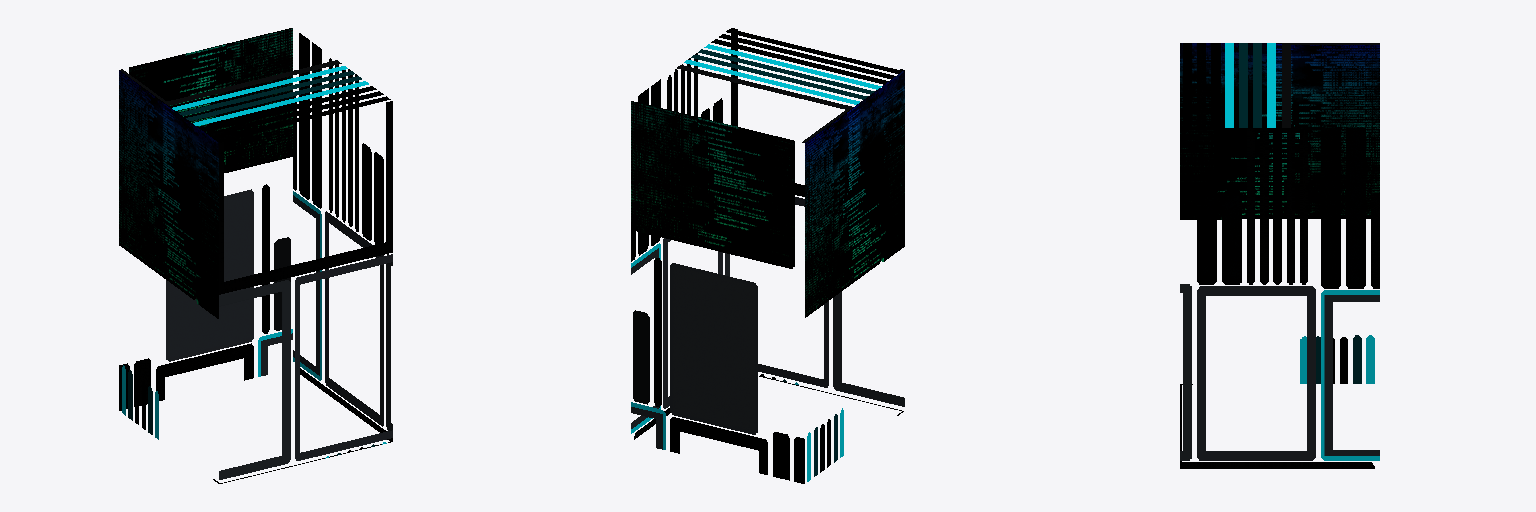
3 renders of one model, left to right at view 1: azimuth 30°, elevation 25°; view 2: azimuth 150°, elevation 25°; view 3: azimuth 270°, elevation 25°, orthographic.
Parts seen in each view (by area): view 1: Cube.002; view 2: Cube.002; view 3: Cube.002.
Part boxes in pixels (left/top/right/bottom): Cube.002: left=119, top=28, right=392, bottom=483; Cube.002: left=631, top=28, right=904, bottom=483; Cube.002: left=1180, top=43, right=1379, bottom=468.
Bounding box in the file's own units: 1.26 × 2.38 × 1.26.
3 materials, 1 textured.